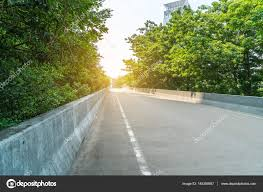strada: (101, 87, 261, 174)
